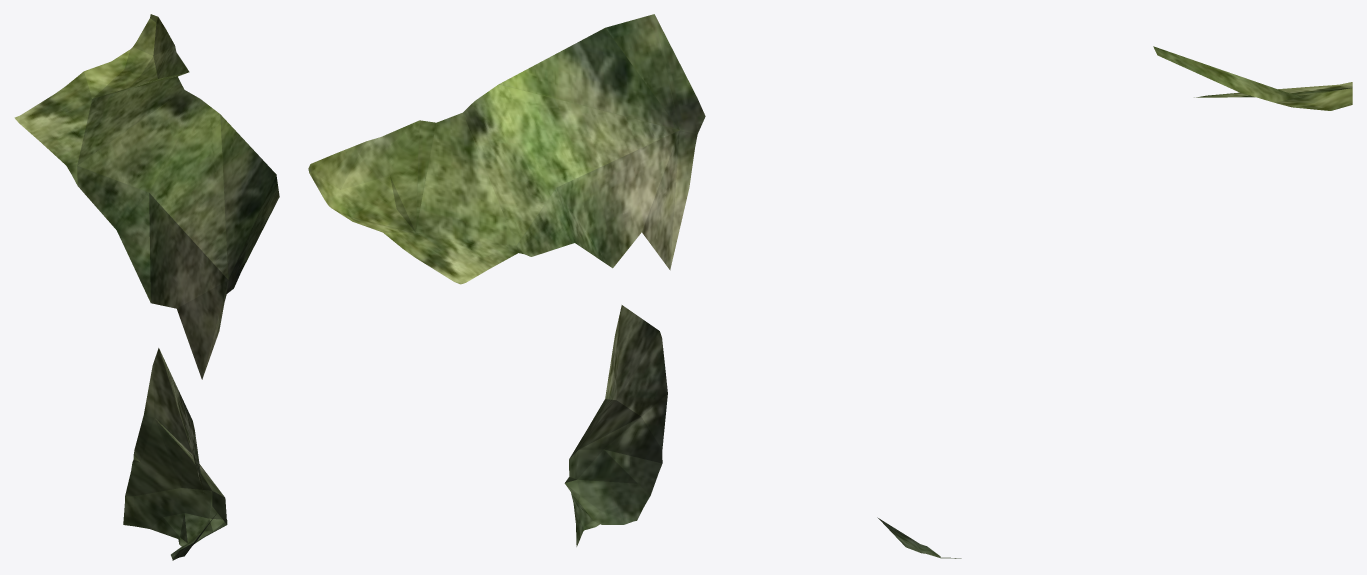
The picture shows the model from 3 angles, left to right: view 1: azimuth 30°, elevation 25°; view 2: azimuth 150°, elevation 25°; view 3: azimuth 270°, elevation 25°; orthographic projection. The views are drawn at different scales.
Bounding box in the file's own units: 2.16 × 5.9 × 5.9.
2 materials, 2 textured.
